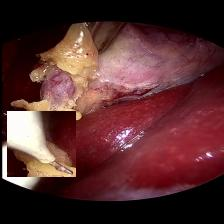Grasper: (80, 19, 128, 57)
Hook: (6, 111, 75, 177)
